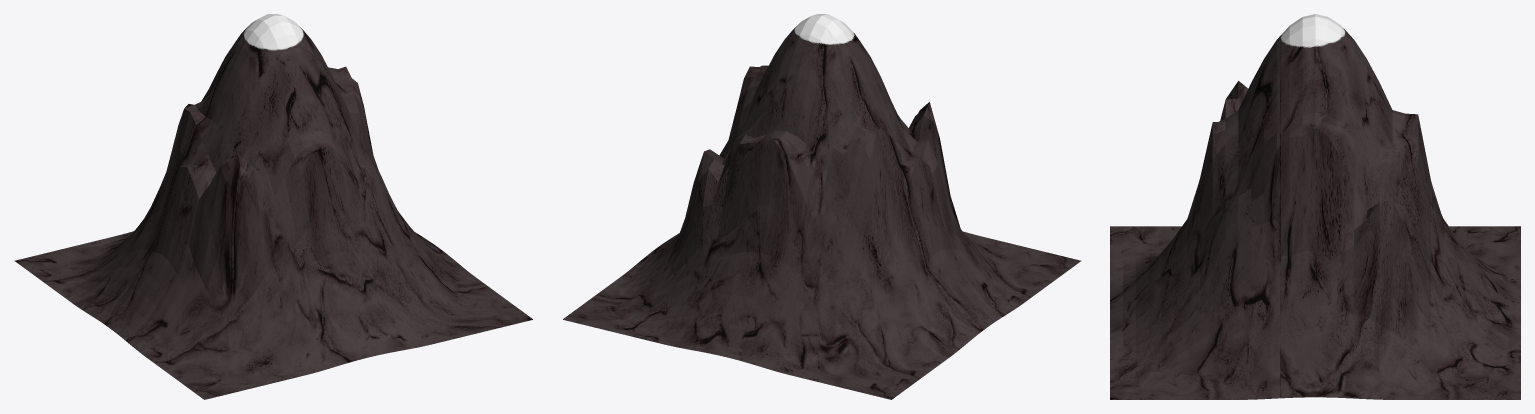
Rendered from BackgroundMountain.glb.
3 renders of one model, left to right at view 1: azimuth 30°, elevation 25°; view 2: azimuth 150°, elevation 25°; view 3: azimuth 270°, elevation 25°, orthographic. The views are drawn at different scales.
Visible parts, largest first — view 1: Plane.001; view 2: Plane.001; view 3: Plane.001.
Boxes of the visible parts, x1,y1,x2,y2 form: Plane.001: (14,14,532,399); Plane.001: (563,14,1081,399); Plane.001: (1110,14,1520,399).
Size of the model in its own units: 200 by 159 by 200.
1 material, 1 textured.
